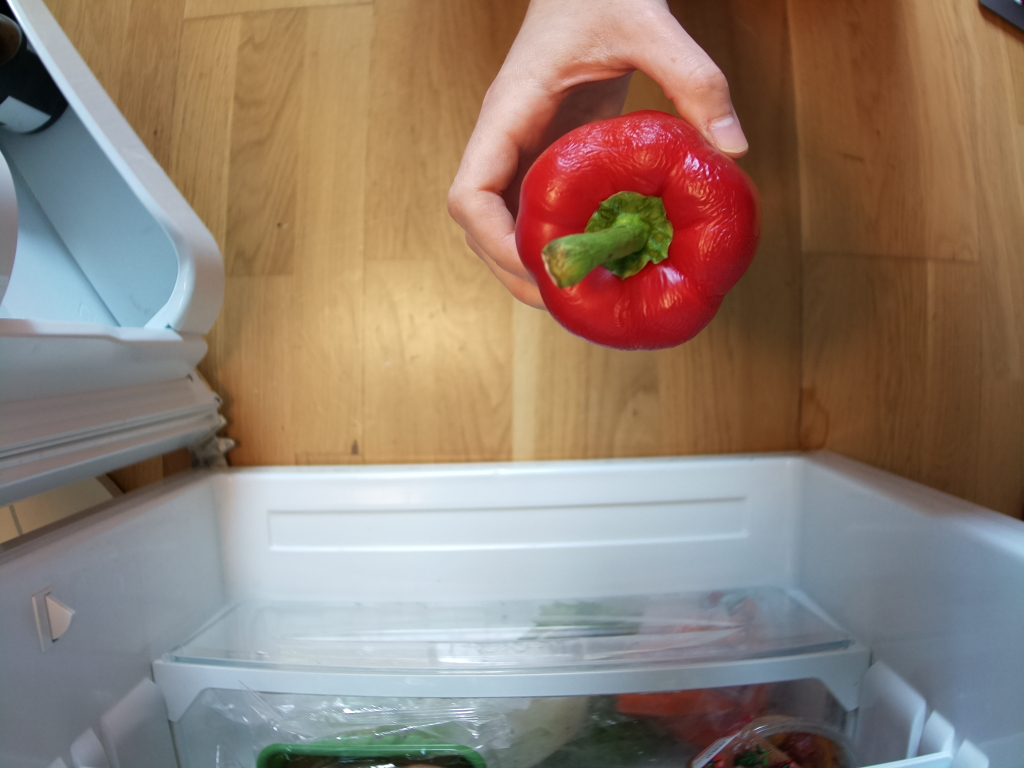pepper-bad: (508, 107, 780, 363)
